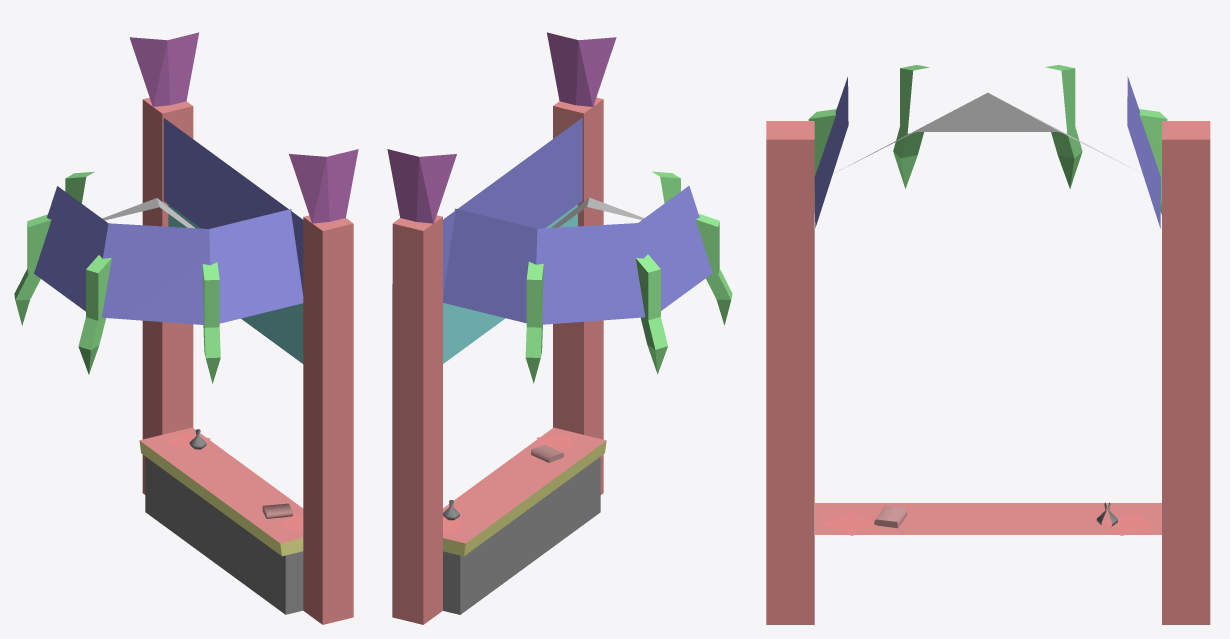
Rendered from interior_B_delf_store_29.gltf.
The picture shows the model from 3 angles, left to right: view 1: azimuth 30°, elevation 25°; view 2: azimuth 150°, elevation 25°; view 3: azimuth 270°, elevation 25°; orthographic projection. The views are drawn at different scales.
Parts seen in each view (by area): view 1: interior_B_delf_store_29; view 2: interior_B_delf_store_29; view 3: interior_B_delf_store_29.
Boxes of the visible parts, left/top/right/bottom form: interior_B_delf_store_29: left=14, top=32, right=358, bottom=624; interior_B_delf_store_29: left=387, top=32, right=732, bottom=624; interior_B_delf_store_29: left=766, top=65, right=1210, bottom=624.
Bounding box in the file's own units: 0.8615 × 1.76 × 1.25.
